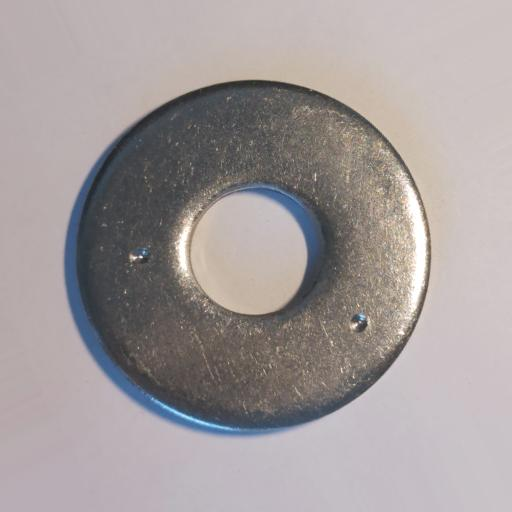circular_cavity: (349, 314, 368, 333), (130, 248, 151, 264)
